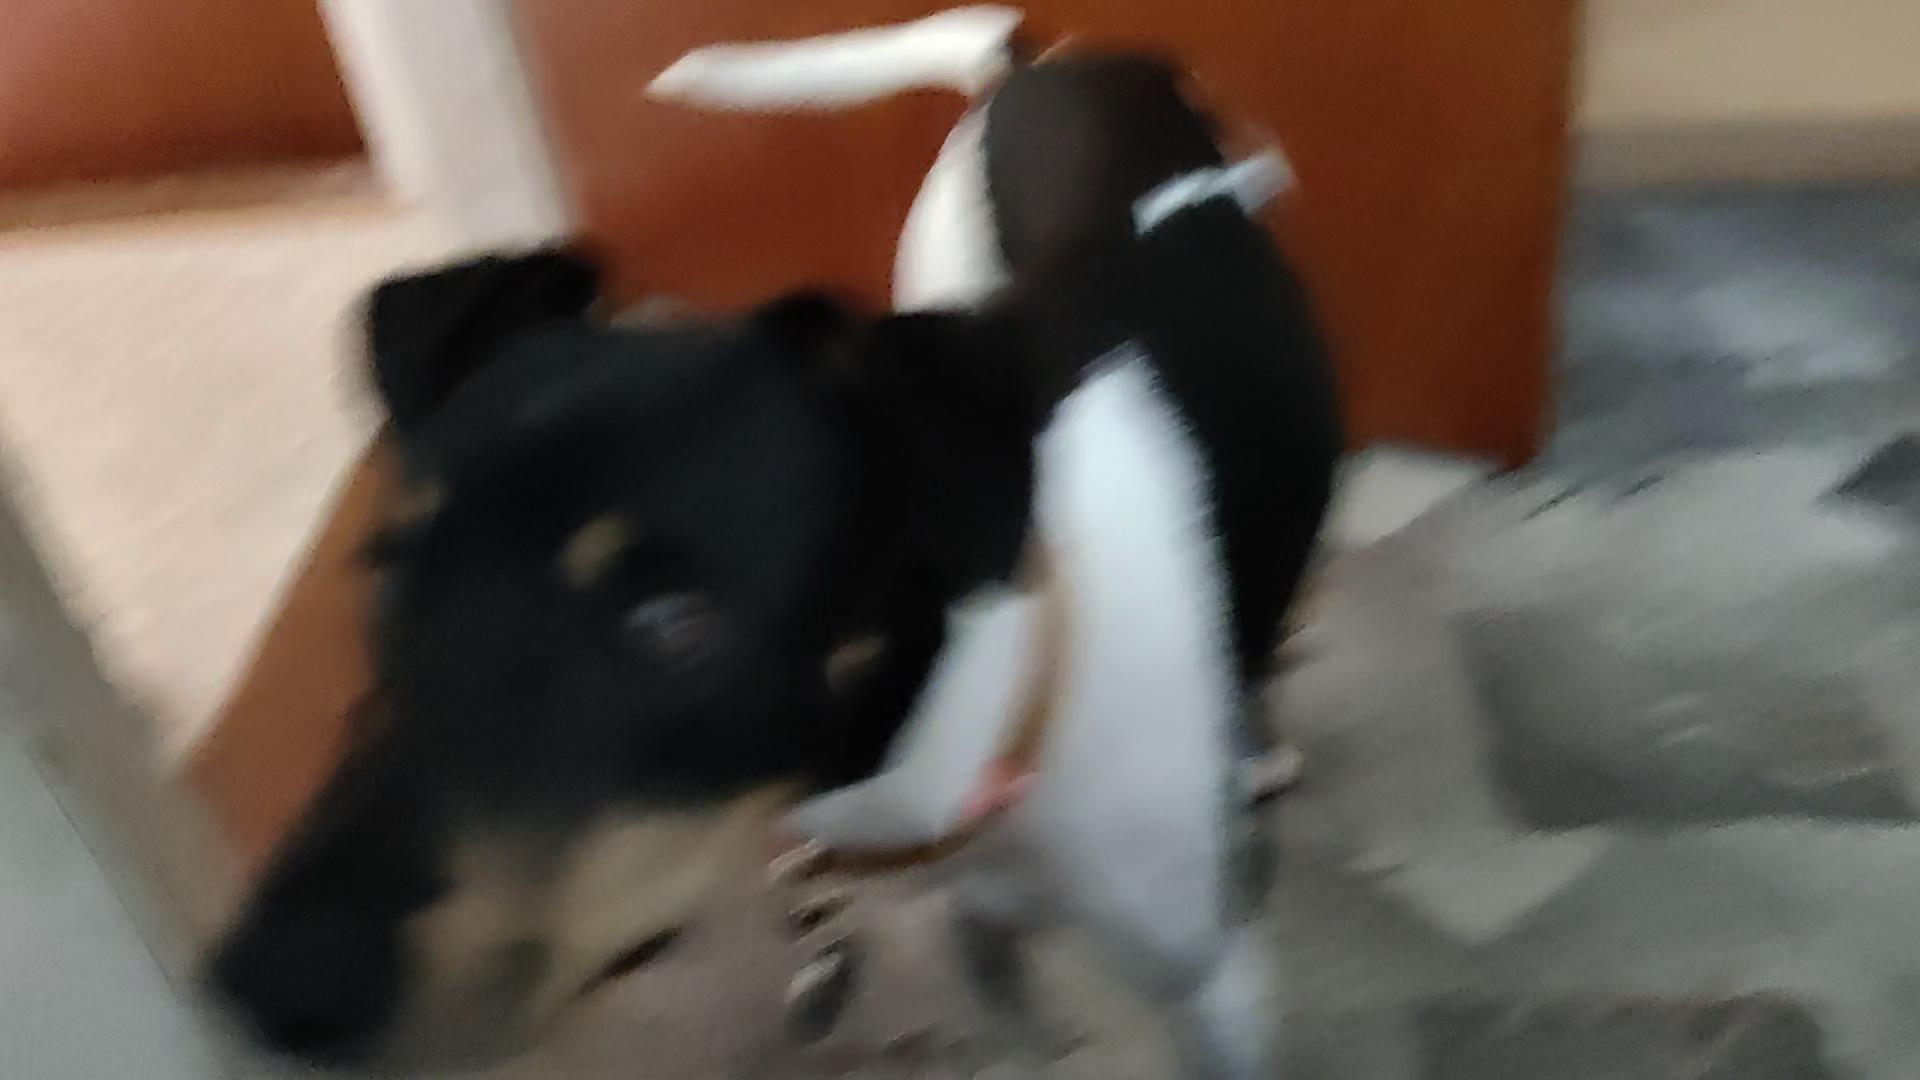Dog: (181, 0, 1400, 1079)
